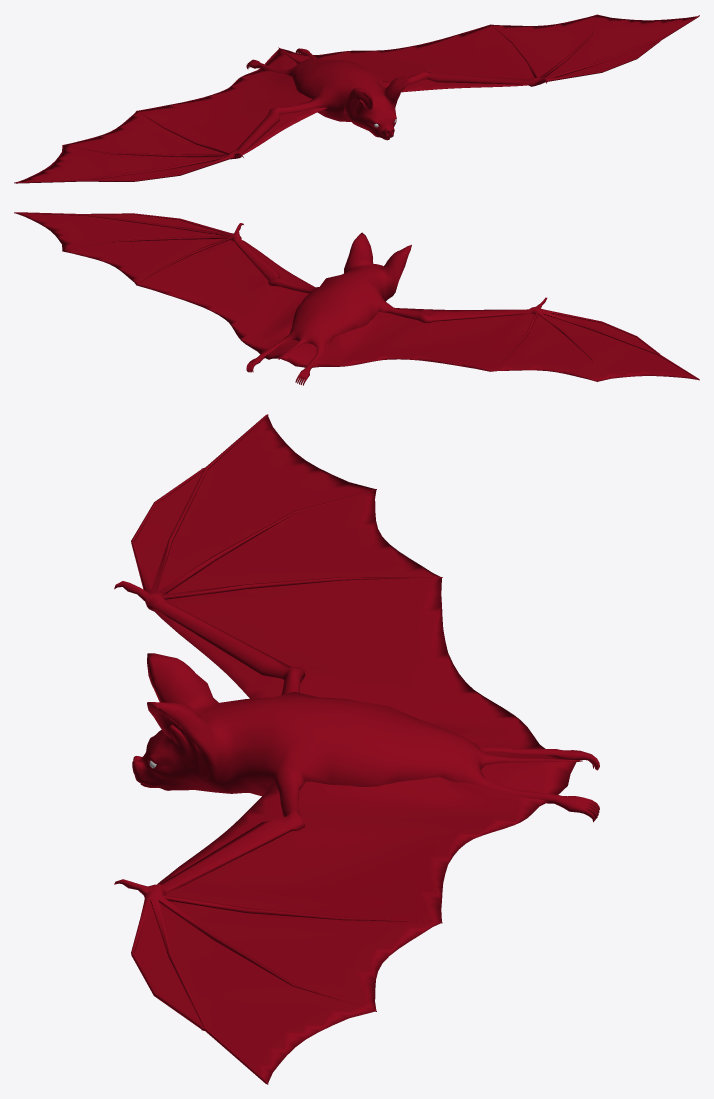
Rendered from batred.obj.
The picture shows the model from 3 angles, top to bottom: view 1: azimuth 30°, elevation 25°; view 2: azimuth 150°, elevation 25°; view 3: azimuth 270°, elevation 25°; orthographic projection. The views are drawn at different scales.
Visible parts, largest first — view 1: bat_body; view 2: bat_body; view 3: bat_body.
Part boxes in pixels (box(x1,y1,x2,y2)): bat_body: box(14, 14, 699, 183); bat_body: box(14, 212, 699, 385); bat_body: box(114, 414, 599, 1084).
Bounding box in the file's own units: 15.32 × 1.41 × 4.7.
Materials: 2 (1 with a texture image).
